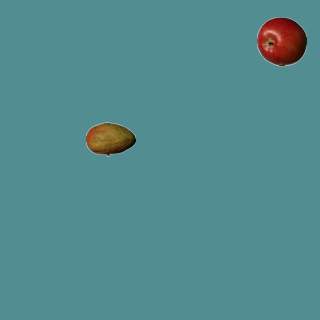Apple Braeburn: (256, 16, 306, 66)
Papaya: (85, 114, 135, 164)
